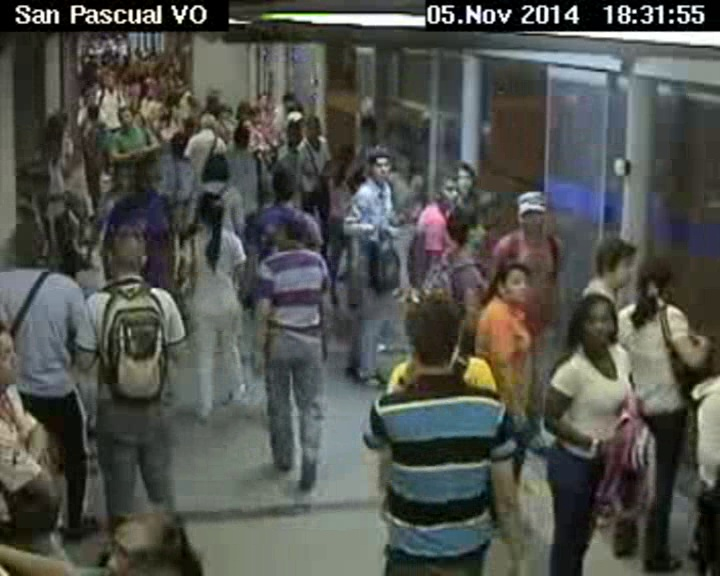person: (93, 496, 189, 576), (396, 292, 473, 383), (569, 287, 617, 351), (102, 218, 150, 281), (5, 217, 51, 274), (631, 260, 671, 325), (1, 322, 39, 390), (509, 183, 554, 240), (484, 258, 536, 303), (594, 232, 634, 288), (442, 205, 489, 252), (272, 210, 314, 249), (432, 172, 465, 209), (366, 151, 396, 190), (448, 159, 479, 196), (197, 151, 229, 183), (131, 160, 159, 196), (196, 192, 222, 229), (354, 115, 379, 146), (332, 138, 354, 168), (284, 120, 302, 146), (305, 113, 321, 141), (115, 107, 135, 129), (46, 112, 70, 129), (230, 126, 249, 147), (238, 117, 257, 135), (171, 130, 185, 154), (196, 111, 217, 127), (102, 74, 118, 91), (281, 93, 296, 108), (87, 104, 100, 120)
